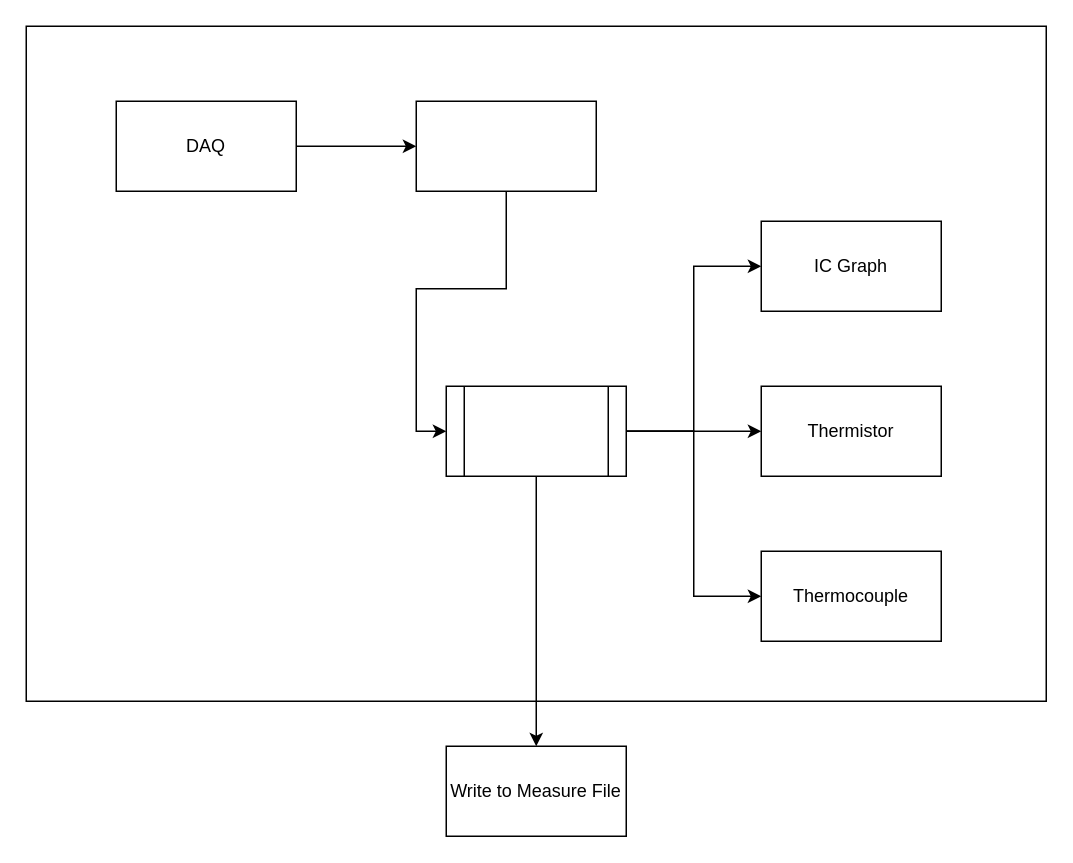
Image size: 1073x863. Some labels were removed from this diagram. The centre of each missing label's shape, as x and y in pixels:
"Collector (500000)" belongs at pixel 505 145.
"Split Signal" belongs at pixel 535 430.
